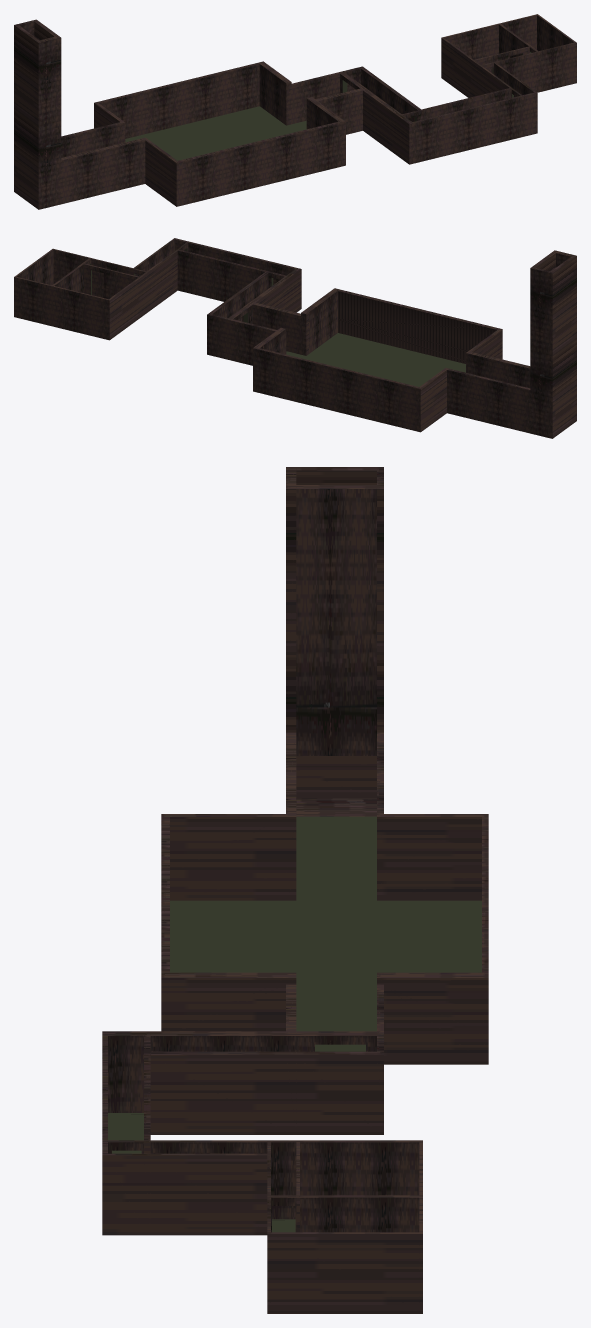
File: test levil.fbx
The picture shows the model from 3 angles, top to bottom: view 1: azimuth 30°, elevation 25°; view 2: azimuth 150°, elevation 25°; view 3: azimuth 270°, elevation 25°; orthographic projection. The views are drawn at different scales.
Parts seen in each view (by area): view 1: Cube; view 2: Cube; view 3: Cube.
Part boxes in pixels (x1,y1,x2,y2): Cube: (14,14,576,209); Cube: (14,238,576,438); Cube: (102,467,488,1313).
Size of the model in its own units: 8244 by 2463 by 2610.
